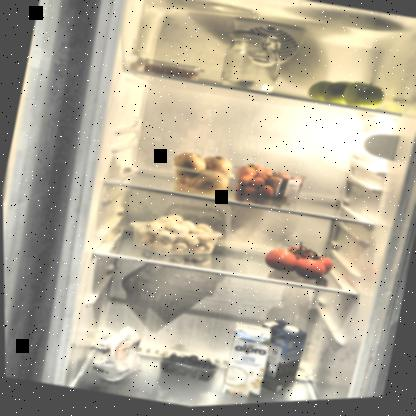apple: (303, 69, 387, 120)
blueberries: (154, 344, 220, 389)
milk: (247, 317, 307, 401), (218, 321, 276, 406)
mushrooms: (123, 205, 225, 268)
onion: (168, 148, 232, 203)
shrimp: (140, 56, 204, 88)
strawberries: (232, 163, 307, 210)
tomato: (259, 236, 338, 291)
